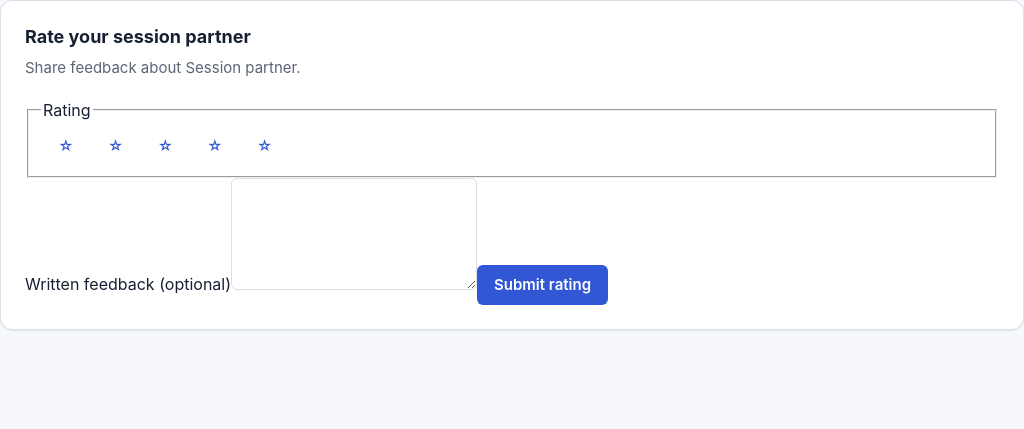
RatingPanel › shows validation when no stars are selected
The image size is (1024, 429).
What coordinates should you click on to do the following:
click the button "Submit rating"
I would click on:
 (542, 284)
Its box is [477,264,608,304].
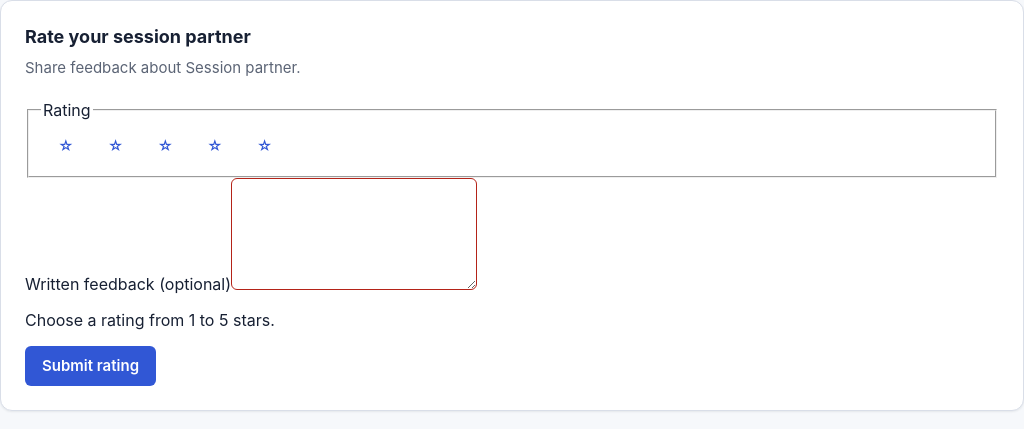
Expected: the message reads "Choose a rating from 1 to 5 stars.", [25,310,275,330]
